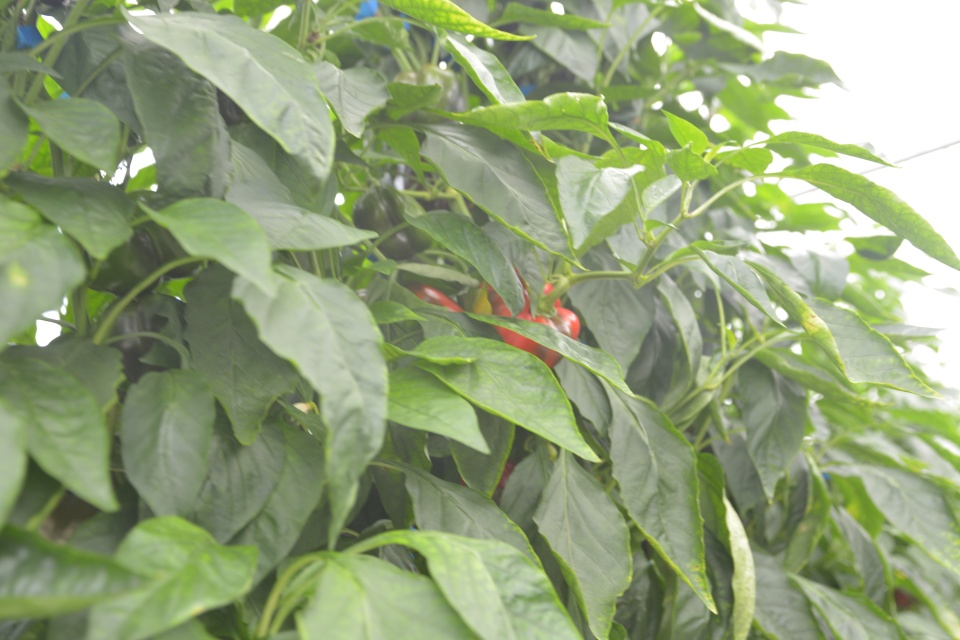fruit: (479, 267, 580, 367), (353, 184, 434, 261), (87, 227, 160, 296), (111, 306, 153, 357)
pedicle: (526, 284, 557, 320)
